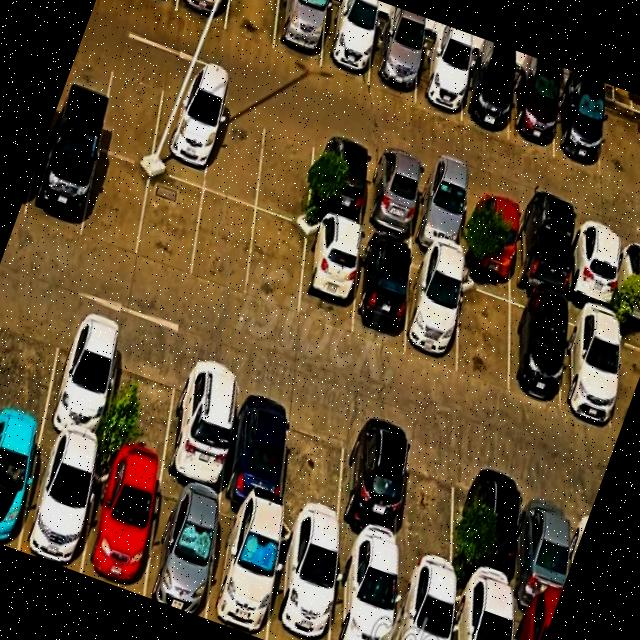empty: (102, 331, 181, 476), (280, 397, 348, 540), (399, 436, 464, 581), (0, 289, 66, 429), (98, 56, 166, 166), (81, 151, 151, 257), (137, 171, 204, 280), (256, 113, 317, 227), (191, 191, 256, 297), (204, 96, 266, 207), (245, 212, 305, 317), (457, 272, 509, 391), (599, 101, 640, 191), (614, 320, 640, 434), (225, 0, 279, 50)
occupied: (42, 308, 123, 452), (19, 433, 98, 573), (163, 353, 239, 497), (82, 456, 159, 596), (144, 478, 220, 619), (206, 501, 280, 640), (222, 374, 294, 515), (340, 416, 410, 561), (465, 458, 525, 601), (24, 126, 99, 238), (268, 522, 337, 640), (151, 76, 220, 188), (516, 476, 572, 614), (299, 216, 361, 334), (352, 234, 411, 350), (561, 303, 616, 426), (405, 252, 460, 372), (509, 289, 563, 405), (332, 545, 397, 640), (310, 132, 369, 228), (0, 419, 42, 550), (514, 202, 567, 301), (363, 149, 417, 244), (464, 184, 515, 280), (413, 165, 465, 259), (321, 0, 376, 86), (393, 563, 453, 640), (508, 68, 559, 157), (462, 54, 512, 140), (554, 83, 600, 176), (415, 37, 464, 121), (572, 220, 616, 313), (369, 22, 419, 101), (274, 0, 328, 68), (453, 583, 512, 640), (617, 235, 640, 321), (512, 602, 554, 640), (176, 0, 229, 29)
